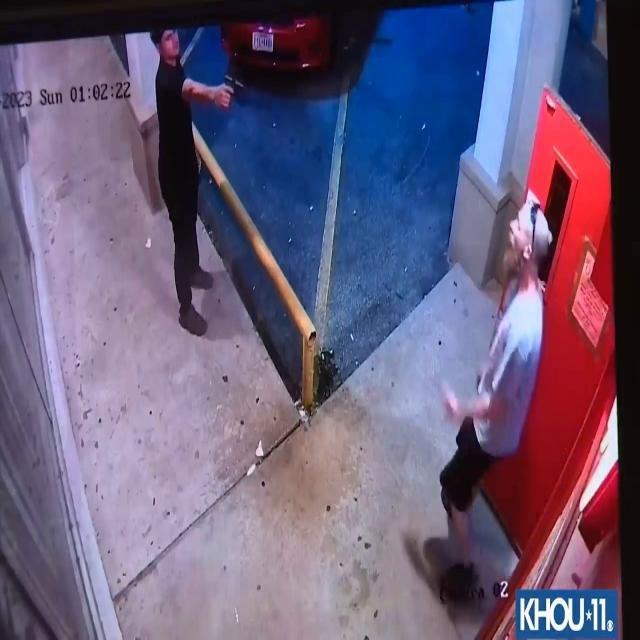normal: (437, 187, 552, 622)
penembakan: (148, 28, 248, 344)
